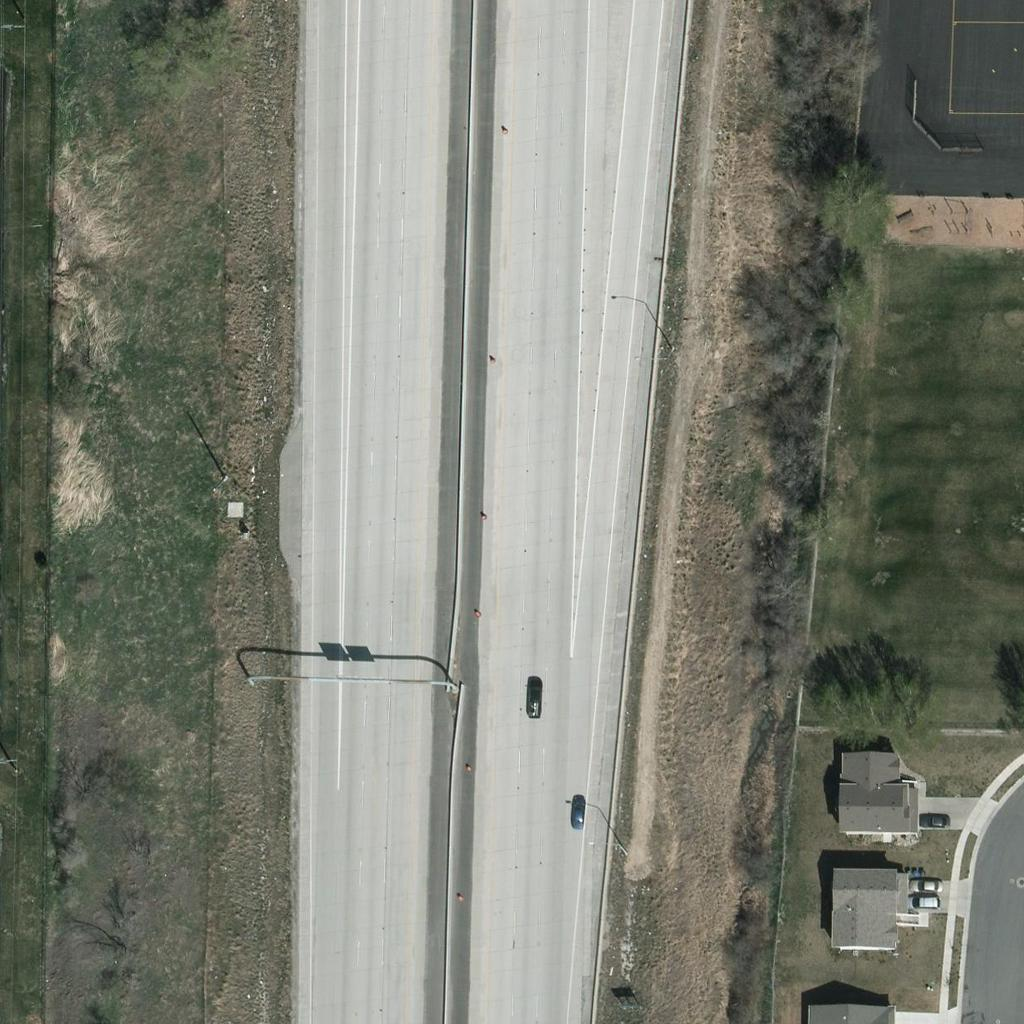car: (516, 678, 550, 712), (560, 794, 594, 828), (919, 802, 953, 836), (911, 867, 945, 901), (907, 884, 941, 918)
